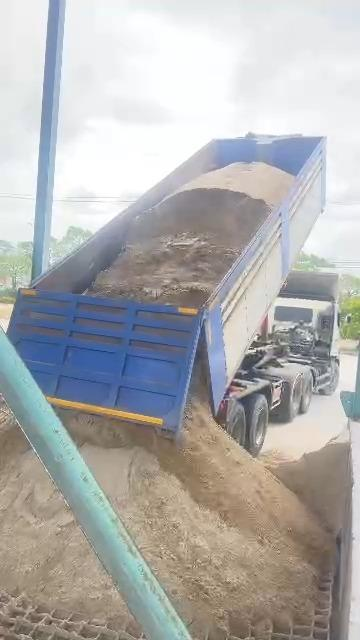sand: (63, 385, 332, 639), (89, 163, 293, 305), (0, 427, 128, 616), (266, 442, 348, 534)
